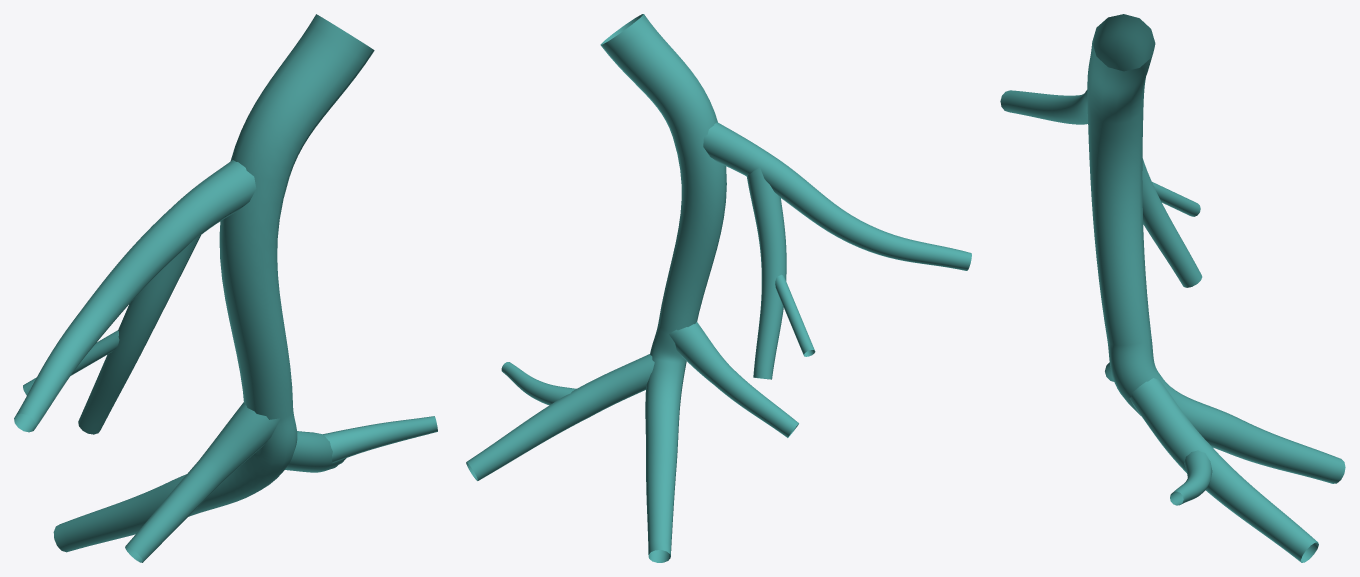
The picture shows the model from 3 angles, left to right: view 1: azimuth 30°, elevation 25°; view 2: azimuth 150°, elevation 25°; view 3: azimuth 270°, elevation 25°; orthographic projection. The views are drawn at different scales.
Parts seen in each view (by area): view 1: 右肺前段支气管（第3段）; view 2: 右肺前段支气管（第3段）; view 3: 右肺前段支气管（第3段）.
Part boxes in pixels (<box>): 右肺前段支气管（第3段）: <box>14,14,437,562</box>; 右肺前段支气管（第3段）: <box>466,14,971,562</box>; 右肺前段支气管（第3段）: <box>1000,14,1345,562</box>.
Size of the model in its own units: 0.1077 by 0.1171 by 0.069.
